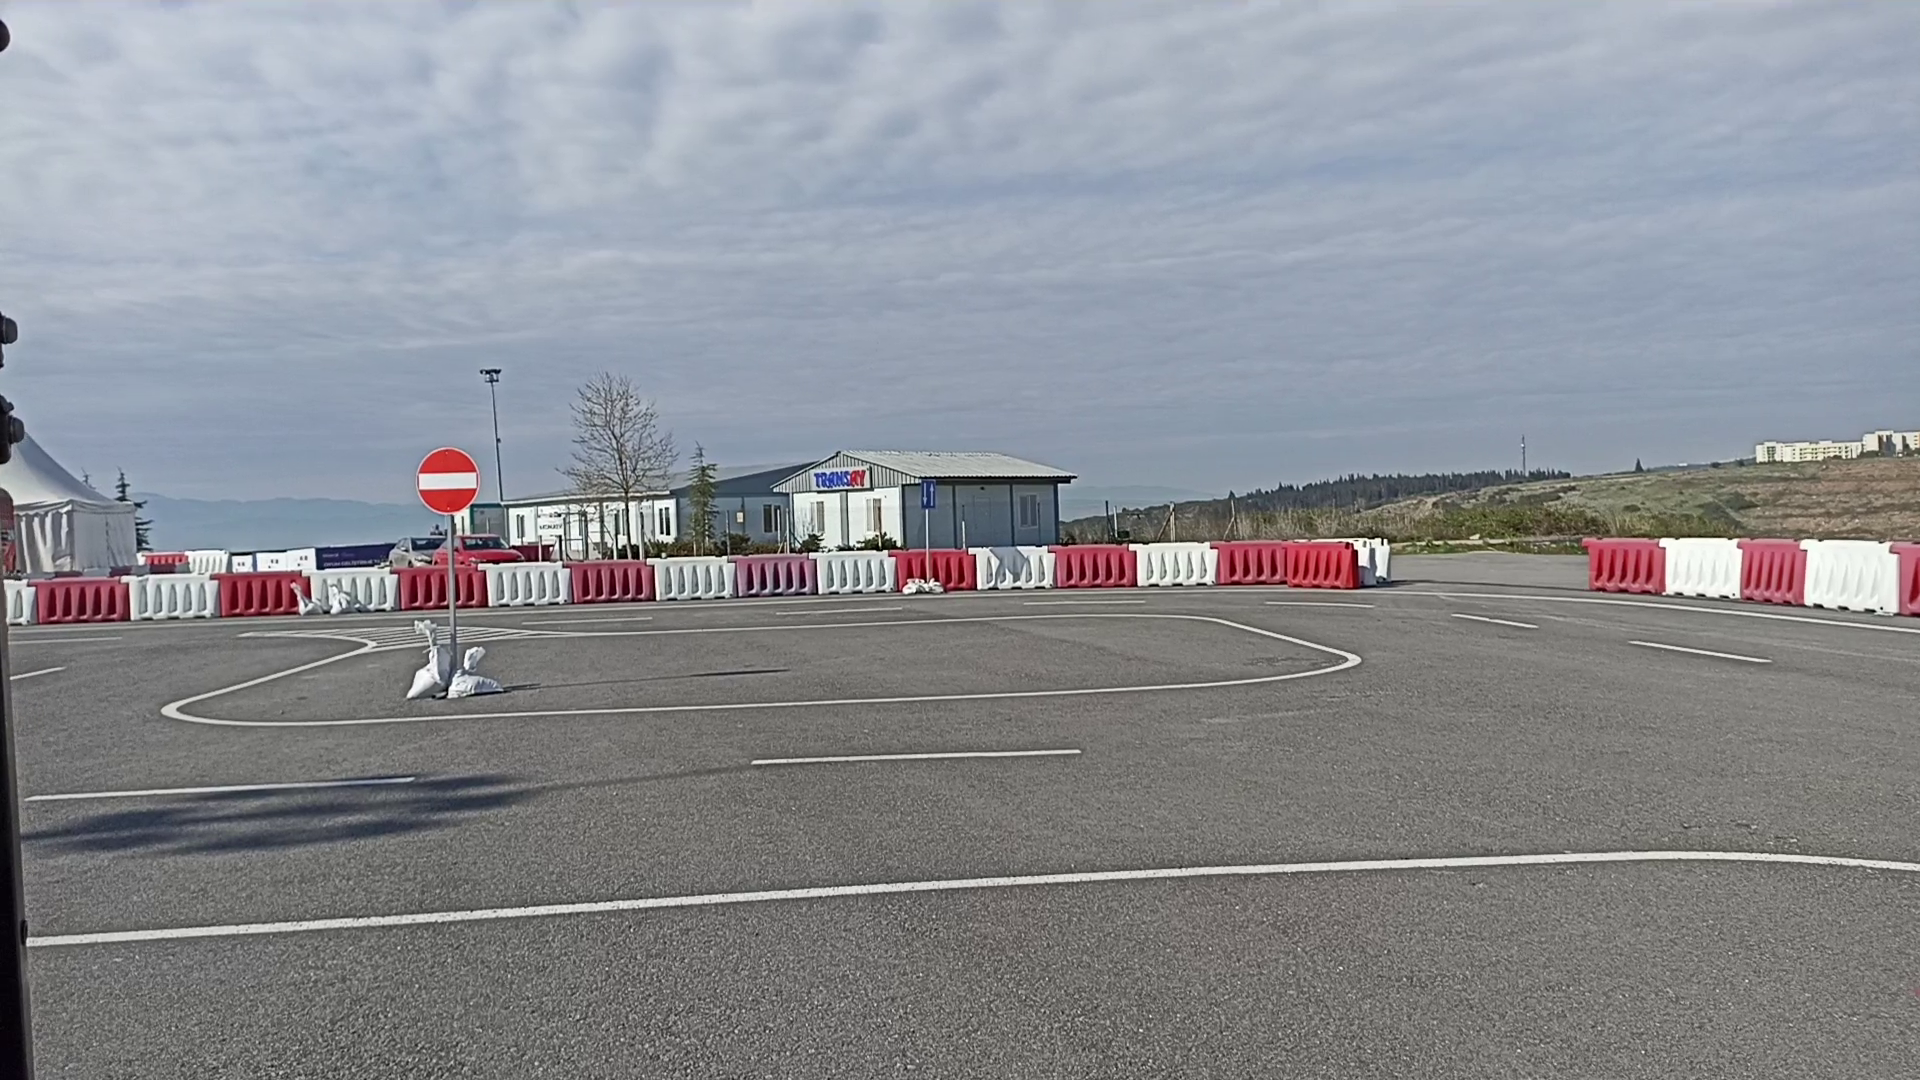noentryway: (415, 446, 481, 516)
